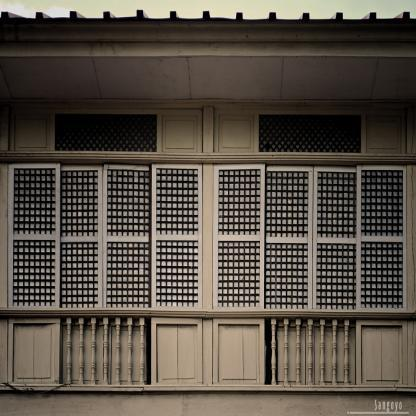Building Outline: (0, 9, 416, 415)
Facade: (1, 41, 416, 415)
Floor Slab: (1, 390, 416, 416)
Roof: (0, 9, 416, 24)
Top Floor: (1, 101, 416, 390)
Window: (61, 165, 151, 307), (266, 165, 356, 307), (55, 114, 157, 152), (258, 115, 361, 152)
